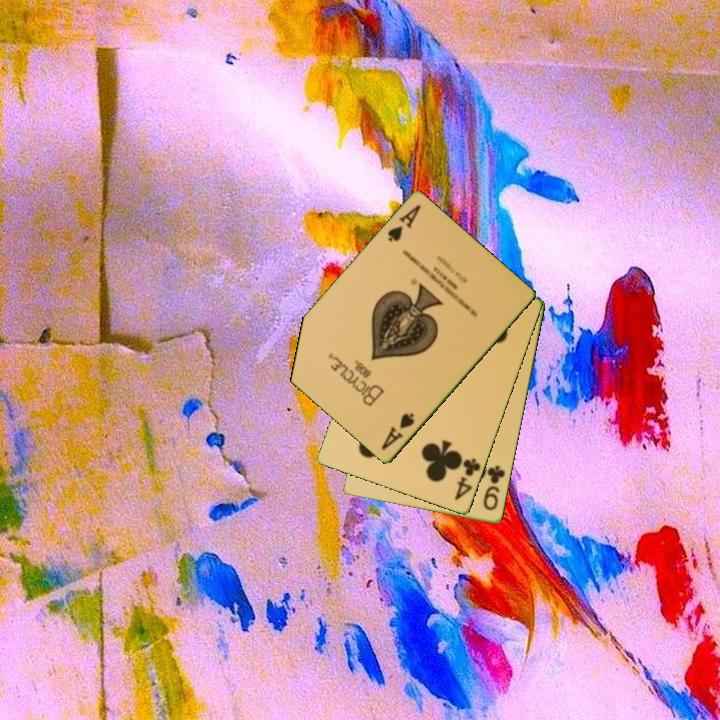4c: (451, 455, 484, 503)
9c: (480, 462, 508, 514)
As: (378, 410, 418, 454), (384, 201, 424, 245)
